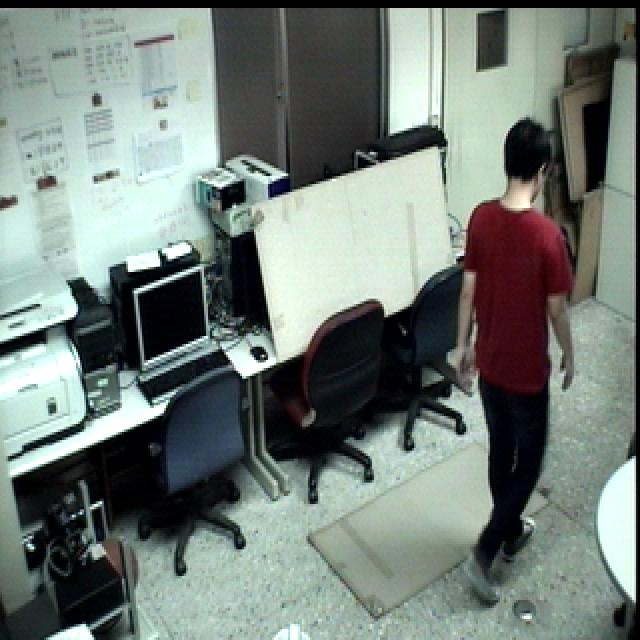stand: (438, 109, 586, 616)
